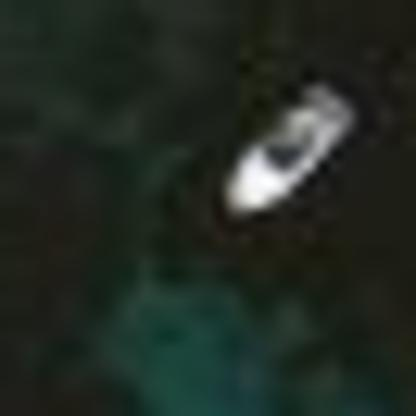ship: (209, 70, 376, 232)
